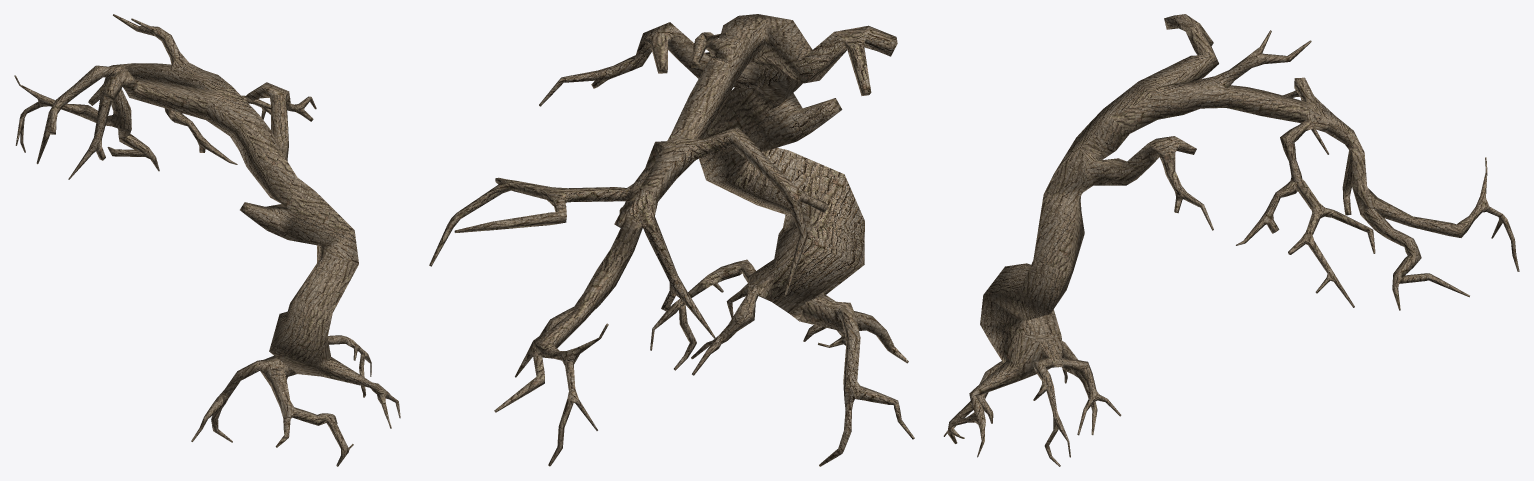
File: dead_tree_2.fbx
3 views of the same model, side by side, from view 1: azimuth 30°, elevation 25°; view 2: azimuth 150°, elevation 25°; view 3: azimuth 270°, elevation 25° (orthographic). The views are drawn at different scales.
Visible parts, largest first — view 1: dead_tree_2; view 2: dead_tree_2; view 3: dead_tree_2.
Boxes of the visible parts, left/top/right/bottom form: dead_tree_2: left=14, top=14, right=400, bottom=466; dead_tree_2: left=429, top=14, right=914, bottom=466; dead_tree_2: left=943, top=14, right=1519, bottom=466.
Size of the model in its own units: 469 by 664 by 877.
Materials: 1 (1 with a texture image).
